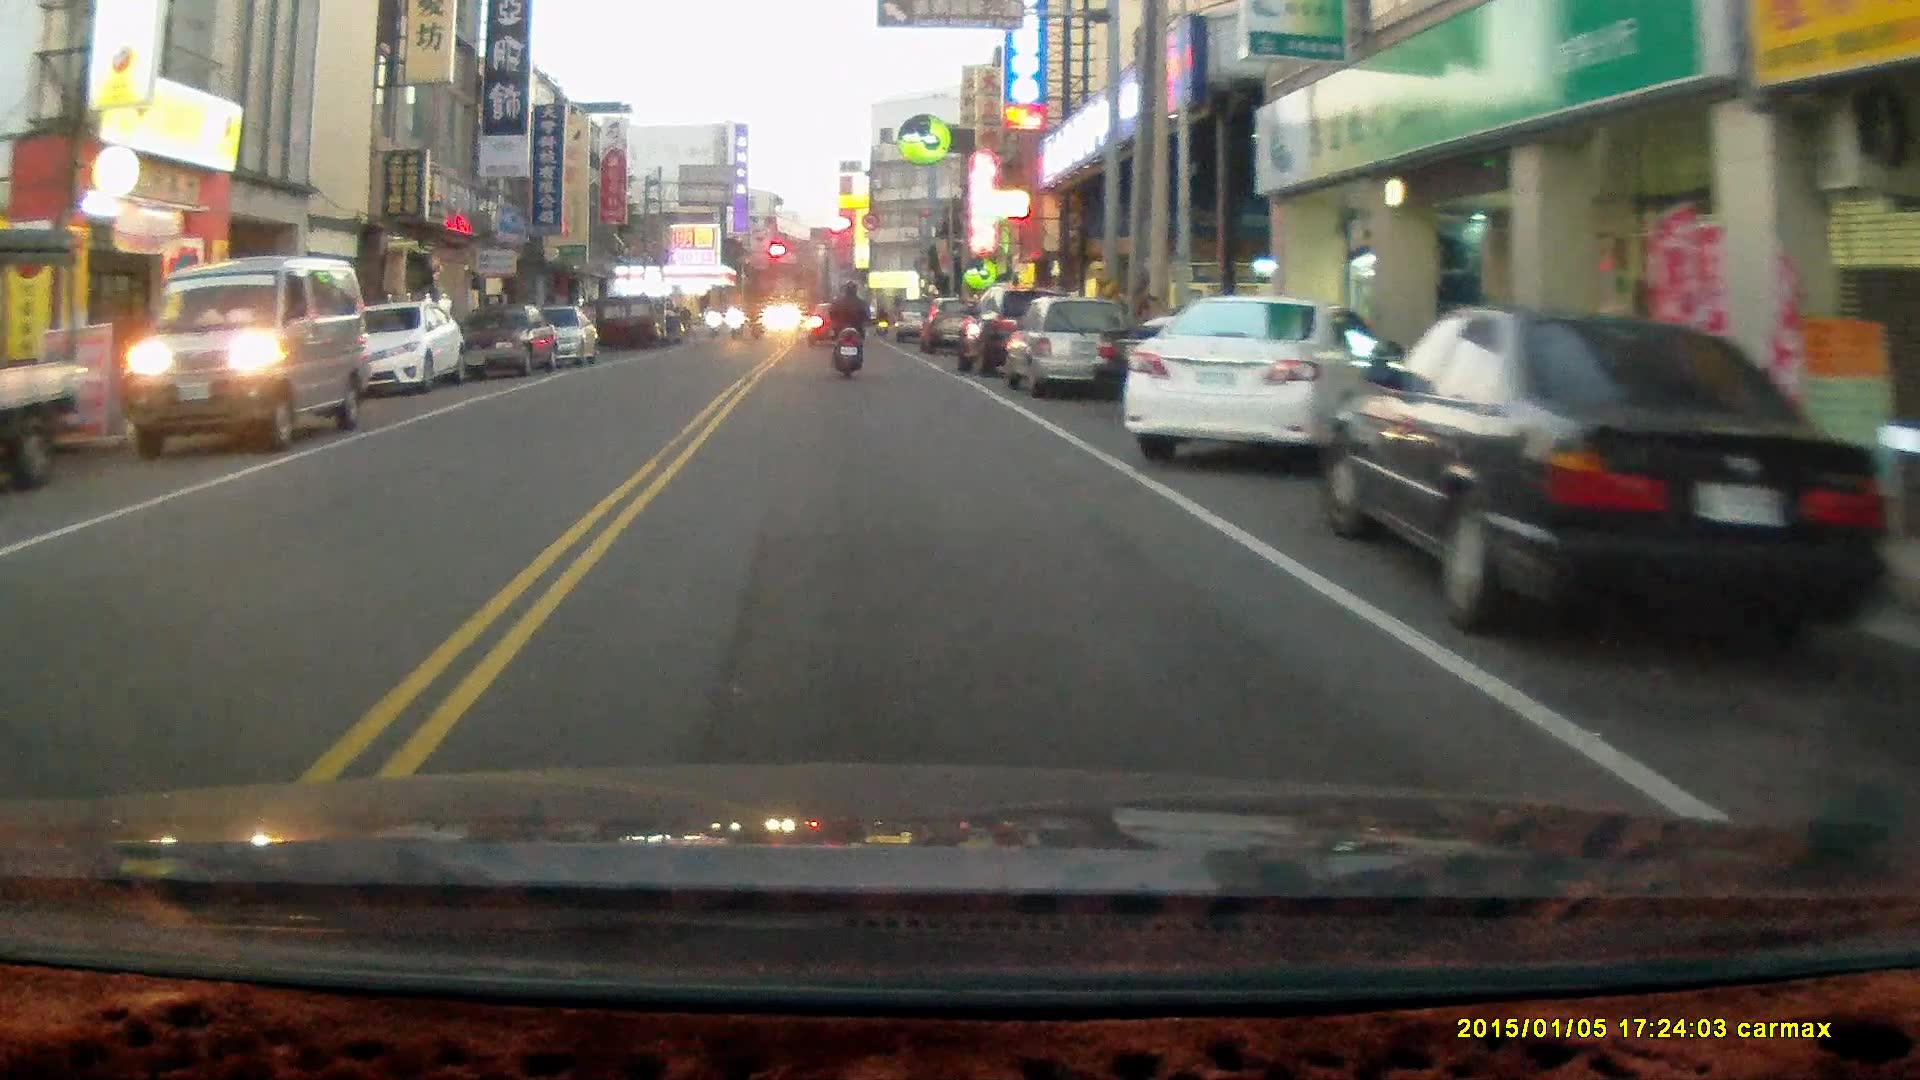rider: (826, 277, 872, 379)
vehicle: (1322, 303, 1892, 636), (1122, 290, 1388, 469), (132, 253, 371, 452), (0, 223, 79, 493), (1002, 292, 1138, 393), (342, 298, 467, 392)
